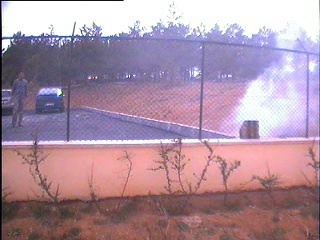smoke: (221, 32, 313, 139)
